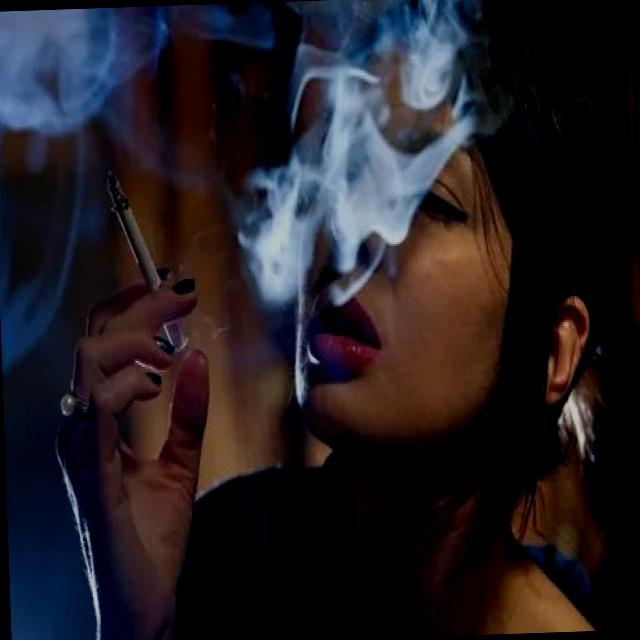smoke: (105, 165, 191, 358)
